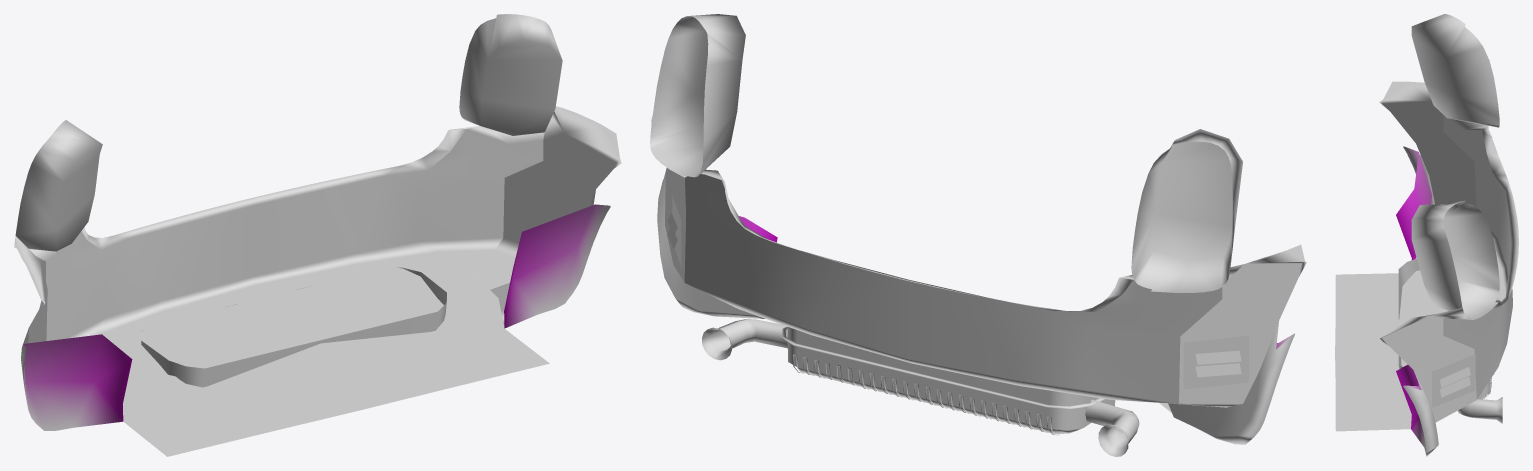
File: Car_Mini_CountrymanJCW_2017_BumperChassisR_SetA_AltA.fbx
The picture shows the model from 3 angles, left to right: view 1: azimuth 30°, elevation 25°; view 2: azimuth 150°, elevation 25°; view 3: azimuth 270°, elevation 25°; orthographic projection. The views are drawn at different scales.
Parts seen in each view (by area): view 1: BumperChassisR 5; view 2: BumperChassisR 5; view 3: BumperChassisR 5.
Boxes of the visible parts, x1,y1,x2,y2 form: BumperChassisR 5: (14, 14, 621, 456); BumperChassisR 5: (650, 14, 1306, 456); BumperChassisR 5: (1335, 14, 1518, 456).
Bounding box in the file's own units: 1.7 × 0.8078 × 0.5537.
